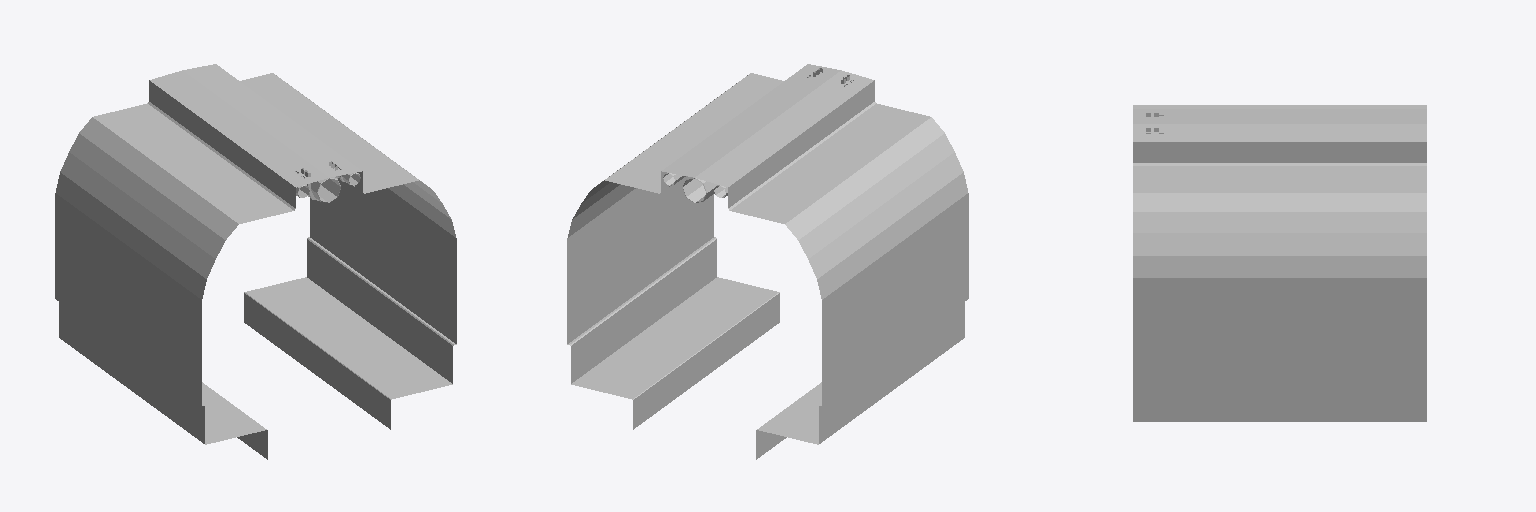
The model's file is ModularSewerStraight.obj.
The picture shows the model from 3 angles: view 1: azimuth 30°, elevation 25°; view 2: azimuth 150°, elevation 25°; view 3: azimuth 270°, elevation 25°; orthographic projection.
Visible parts, largest first — view 1: ModularSewerStraight:polySurface96 ModularSewerStraight:polySurf, polySurface310; view 2: ModularSewerStraight:polySurface96 ModularSewerStraight:polySurf, polySurface310; view 3: ModularSewerStraight:polySurface96 ModularSewerStraight:polySurf.
Boxes of the visible parts, box(x1,y1,x2,y2) form: ModularSewerStraight:polySurface96 ModularSewerStraight:polySurf: box(55, 64, 456, 459); polySurface310: box(295, 161, 360, 202); ModularSewerStraight:polySurface96 ModularSewerStraight:polySurf: box(567, 64, 968, 459); polySurface310: box(663, 68, 853, 202); ModularSewerStraight:polySurface96 ModularSewerStraight:polySurf: box(1133, 105, 1426, 421).
Bounding box in the file's own units: 5.83 × 5.93 × 5.83.